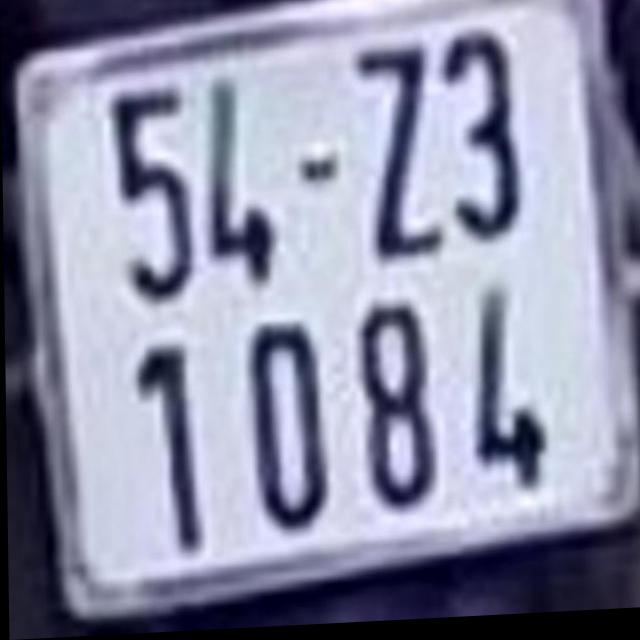0: (243, 323, 325, 533)
1: (130, 344, 200, 555)
3: (445, 31, 522, 248)
4: (470, 294, 546, 496), (210, 77, 275, 286)
5: (115, 89, 196, 301)
8: (353, 304, 433, 516)
Z: (357, 43, 450, 254)
